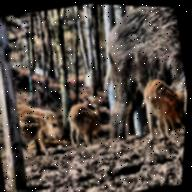boar: (85, 4, 192, 134), (0, 94, 74, 159), (51, 84, 115, 151), (138, 68, 188, 151)
